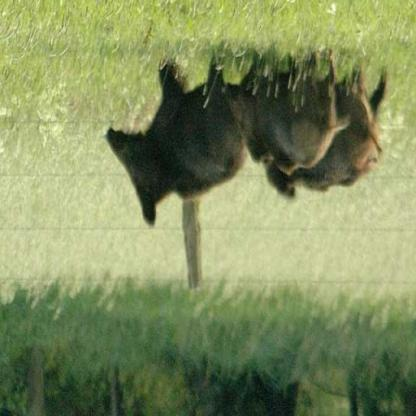boar: (87, 65, 247, 238), (266, 88, 395, 208), (231, 70, 345, 174)
